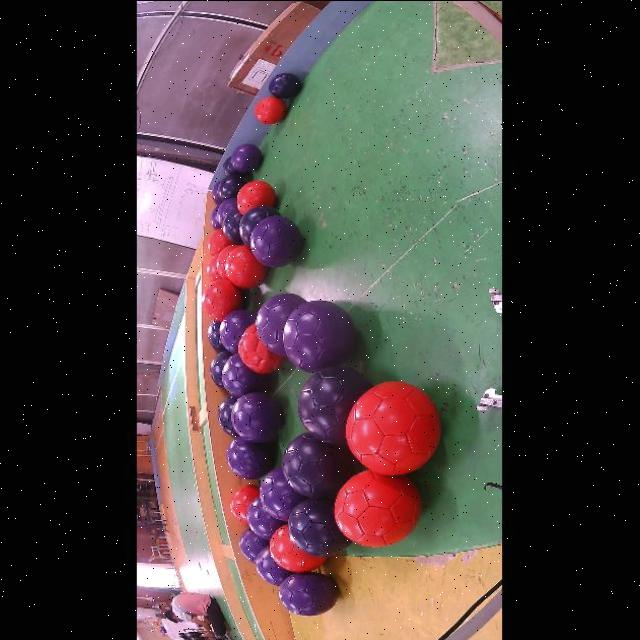B: (297, 365, 371, 444), (281, 431, 353, 496), (287, 498, 350, 556), (239, 204, 279, 244), (216, 395, 237, 437), (268, 72, 301, 98), (210, 350, 231, 388), (222, 208, 242, 244), (217, 175, 245, 200), (206, 320, 224, 351), (222, 156, 247, 176)
P: (282, 299, 356, 372), (255, 292, 305, 355), (249, 214, 301, 266), (230, 391, 283, 442), (278, 571, 338, 616), (259, 466, 306, 520), (221, 353, 267, 397), (226, 435, 273, 478), (245, 496, 286, 539), (218, 308, 255, 353), (255, 546, 292, 585), (239, 528, 267, 562), (230, 143, 262, 171), (216, 197, 236, 225), (211, 180, 222, 204), (210, 205, 221, 228)
R: (344, 381, 441, 475), (334, 470, 420, 547), (268, 524, 326, 571), (237, 324, 284, 373), (225, 244, 267, 287), (201, 279, 241, 321), (236, 180, 276, 213), (229, 484, 259, 524), (254, 96, 286, 123), (216, 244, 237, 278), (207, 228, 231, 255), (206, 255, 221, 280)
